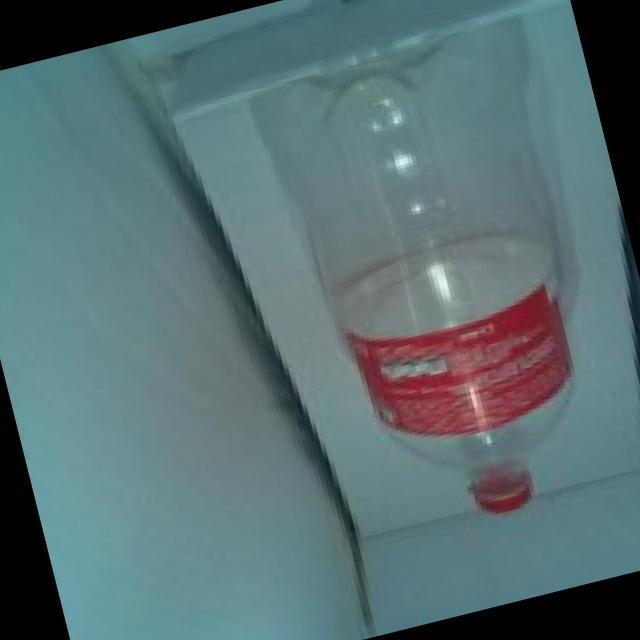good: (212, 0, 640, 564)
